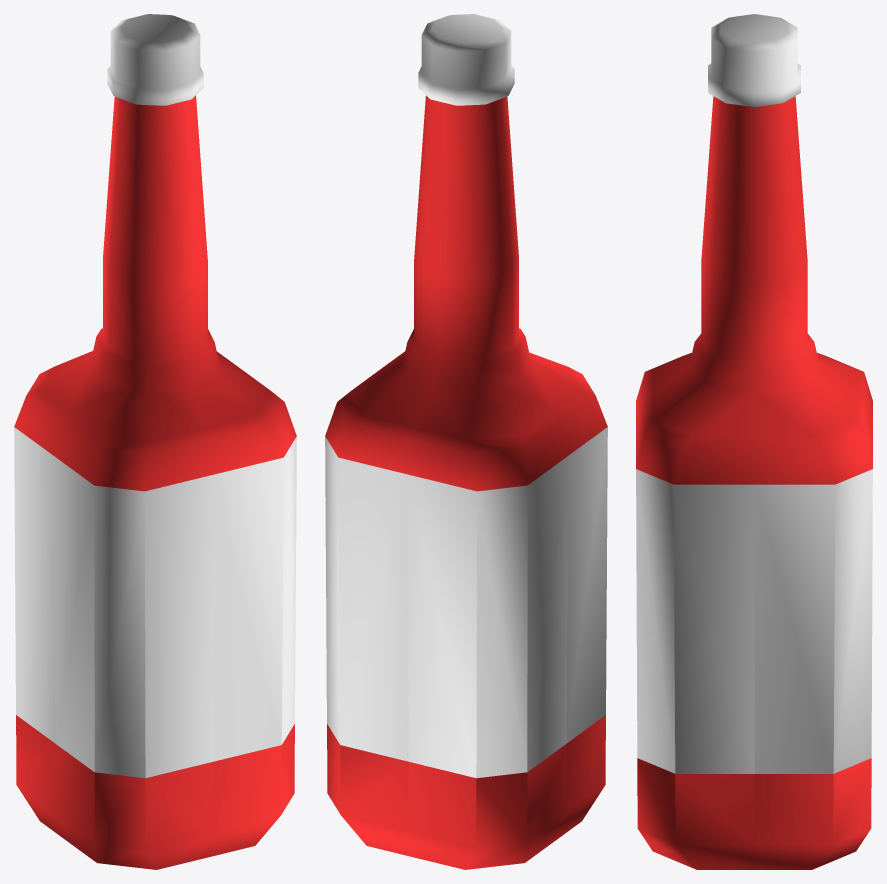
The model's file is Wine 24.fbx.
3 renders of one model, left to right at view 1: azimuth 30°, elevation 25°; view 2: azimuth 150°, elevation 25°; view 3: azimuth 270°, elevation 25°, orthographic.
Parts seen in each view (by area): view 1: Node 0; view 2: Node 0; view 3: Node 0.
Part boxes in pixels (box(x1,y1,x2,y2)): Node 0: box(14, 14, 296, 869); Node 0: box(325, 14, 607, 869); Node 0: box(636, 14, 872, 869).
Size of the model in its own units: 0.0576 by 0.2142 by 0.0573.
